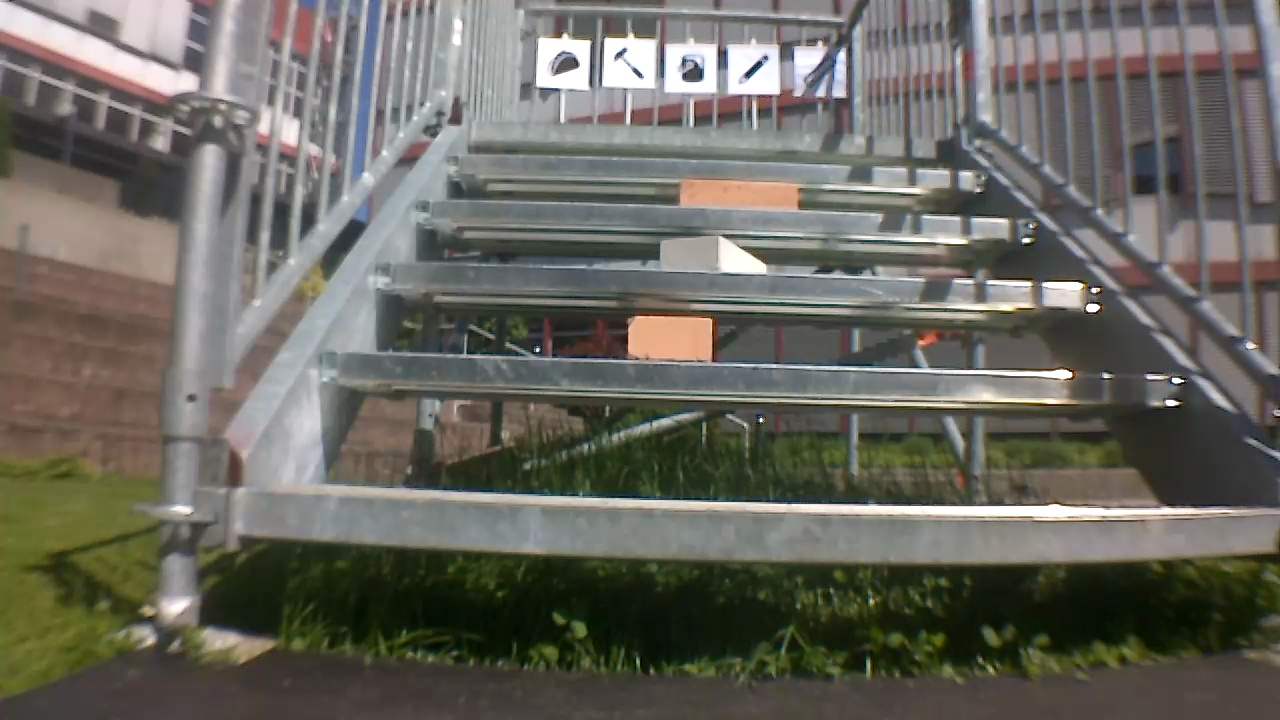brick: (619, 313, 716, 358), (658, 234, 767, 274), (668, 183, 800, 210)
edge: (218, 500, 1280, 558), (371, 257, 1116, 315), (327, 358, 1188, 399), (402, 203, 1042, 245), (448, 162, 995, 189), (472, 128, 966, 150)
stairs: (142, 0, 1280, 657)
steps: (197, 125, 1280, 568)
